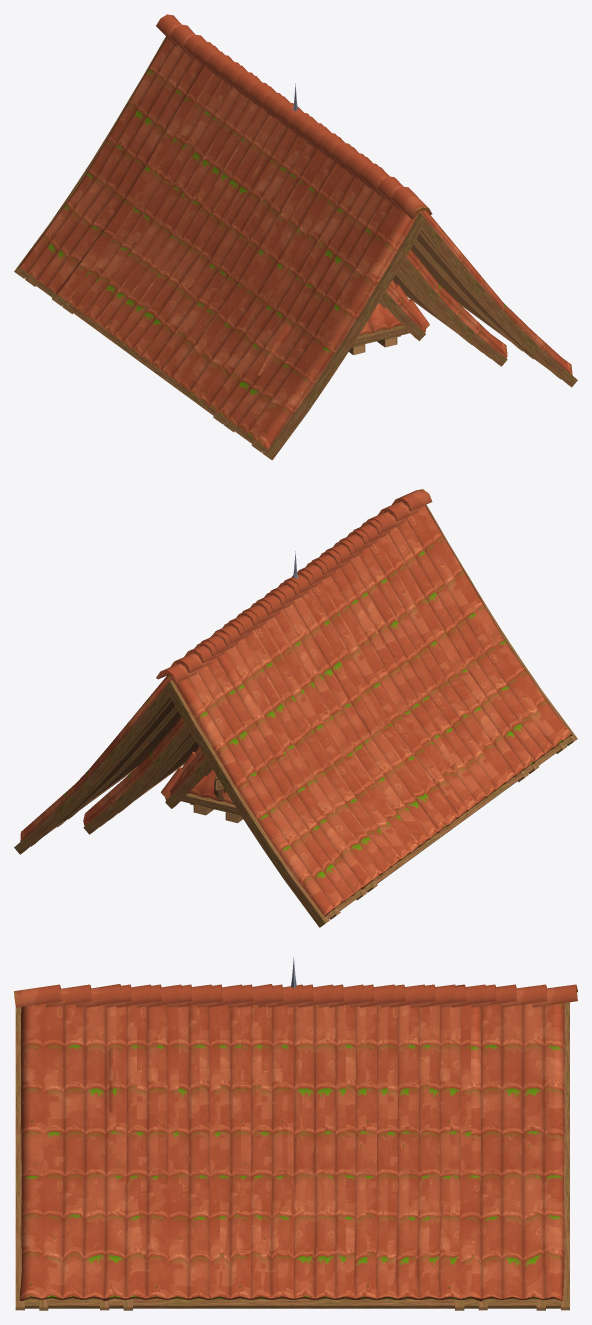
File: village.glb
3 views of the same model, one above another, from view 1: azimuth 30°, elevation 25°; view 2: azimuth 150°, elevation 25°; view 3: azimuth 270°, elevation 25° (orthographic). The views are drawn at different scales.
Parts seen in each view (by area): view 1: Roof_RoundTiles_8x12, Roof_RoundTiles_8x8, Roof_RoundTiles_6x8, Roof_Tower_RoundTiles, Roof_RoundTiles_4x4, Roof_RoundTiles_6x6; view 2: Roof_RoundTiles_8x12, Roof_RoundTiles_8x8, Roof_RoundTiles_6x8, Roof_Tower_RoundTiles, Roof_RoundTiles_4x4, Roof_RoundTiles_6x6; view 3: Roof_RoundTiles_8x12, Roof_RoundTiles_8x8.
Boxes of the visible parts, left/top/right/bottom form: Roof_RoundTiles_8x12: left=14, top=14, right=577, bottom=460; Roof_RoundTiles_8x8: left=52, top=41, right=533, bottom=432; Roof_RoundTiles_6x8: left=392, top=249, right=507, bottom=366; Roof_Tower_RoundTiles: left=293, top=83, right=429, bottom=354; Roof_RoundTiles_4x4: left=379, top=284, right=425, bottom=340; Roof_RoundTiles_6x6: left=393, top=269, right=482, bottom=352; Roof_RoundTiles_8x12: left=14, top=489, right=577, bottom=927; Roof_RoundTiles_8x8: left=57, top=519, right=538, bottom=900; Roof_RoundTiles_6x8: left=83, top=716, right=198, bottom=834; Roof_Tower_RoundTiles: left=161, top=551, right=297, bottom=823; Roof_RoundTiles_4x4: left=165, top=750, right=212, bottom=808; Roof_RoundTiles_6x6: left=108, top=737, right=198, bottom=820; Roof_RoundTiles_8x12: left=14, top=984, right=577, bottom=1310; Roof_RoundTiles_8x8: left=86, top=984, right=496, bottom=1310.
Bounding box in the file's own units: 9.95 × 8.91 × 14.13.
Materials: 9 (8 with a texture image).
